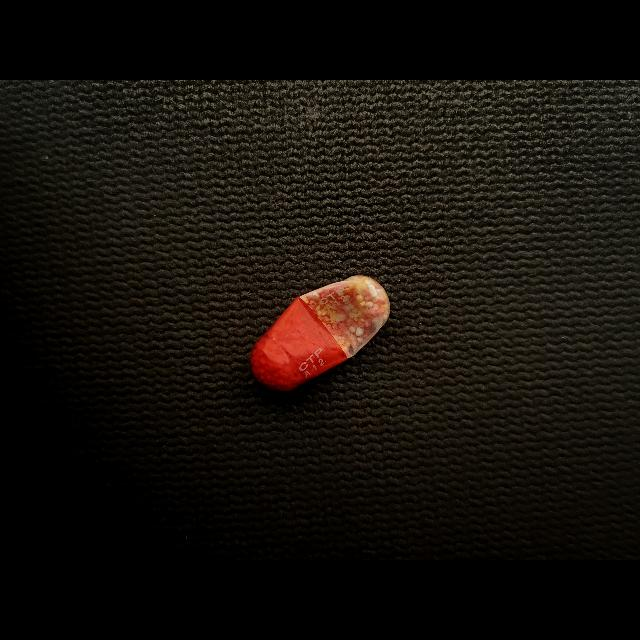Defective Capsule: (251, 275, 390, 391)
